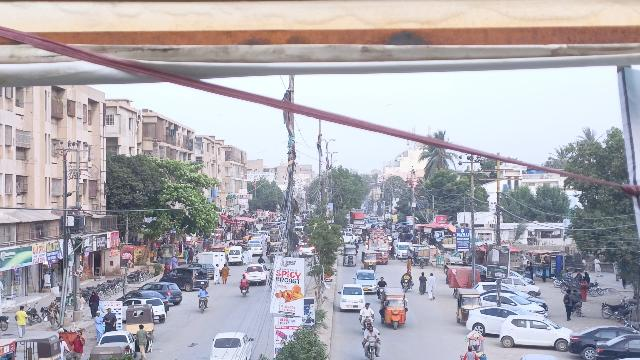Bike: (360, 338, 383, 360), (197, 295, 211, 314), (360, 314, 376, 328), (400, 278, 412, 292), (239, 284, 250, 298), (377, 286, 387, 300)
Bus: (364, 228, 390, 264)
Car: (499, 314, 570, 349), (566, 325, 635, 355), (466, 306, 534, 334), (209, 330, 255, 360), (589, 334, 640, 360), (336, 284, 366, 312), (355, 268, 376, 293)
Cart: (458, 329, 487, 360)
Person: (12, 303, 30, 337), (135, 323, 149, 359), (92, 308, 106, 340), (425, 271, 438, 302), (87, 289, 101, 315), (103, 307, 118, 331), (416, 269, 428, 295), (211, 262, 221, 285), (360, 301, 374, 316), (365, 323, 378, 339), (221, 263, 230, 285), (376, 276, 390, 289), (197, 285, 209, 299), (239, 272, 249, 287), (401, 269, 411, 281)
Rickshaw: (376, 287, 410, 328), (453, 286, 481, 323), (125, 305, 155, 335), (359, 250, 378, 270), (342, 244, 358, 267)
Truck: (196, 252, 227, 265)
